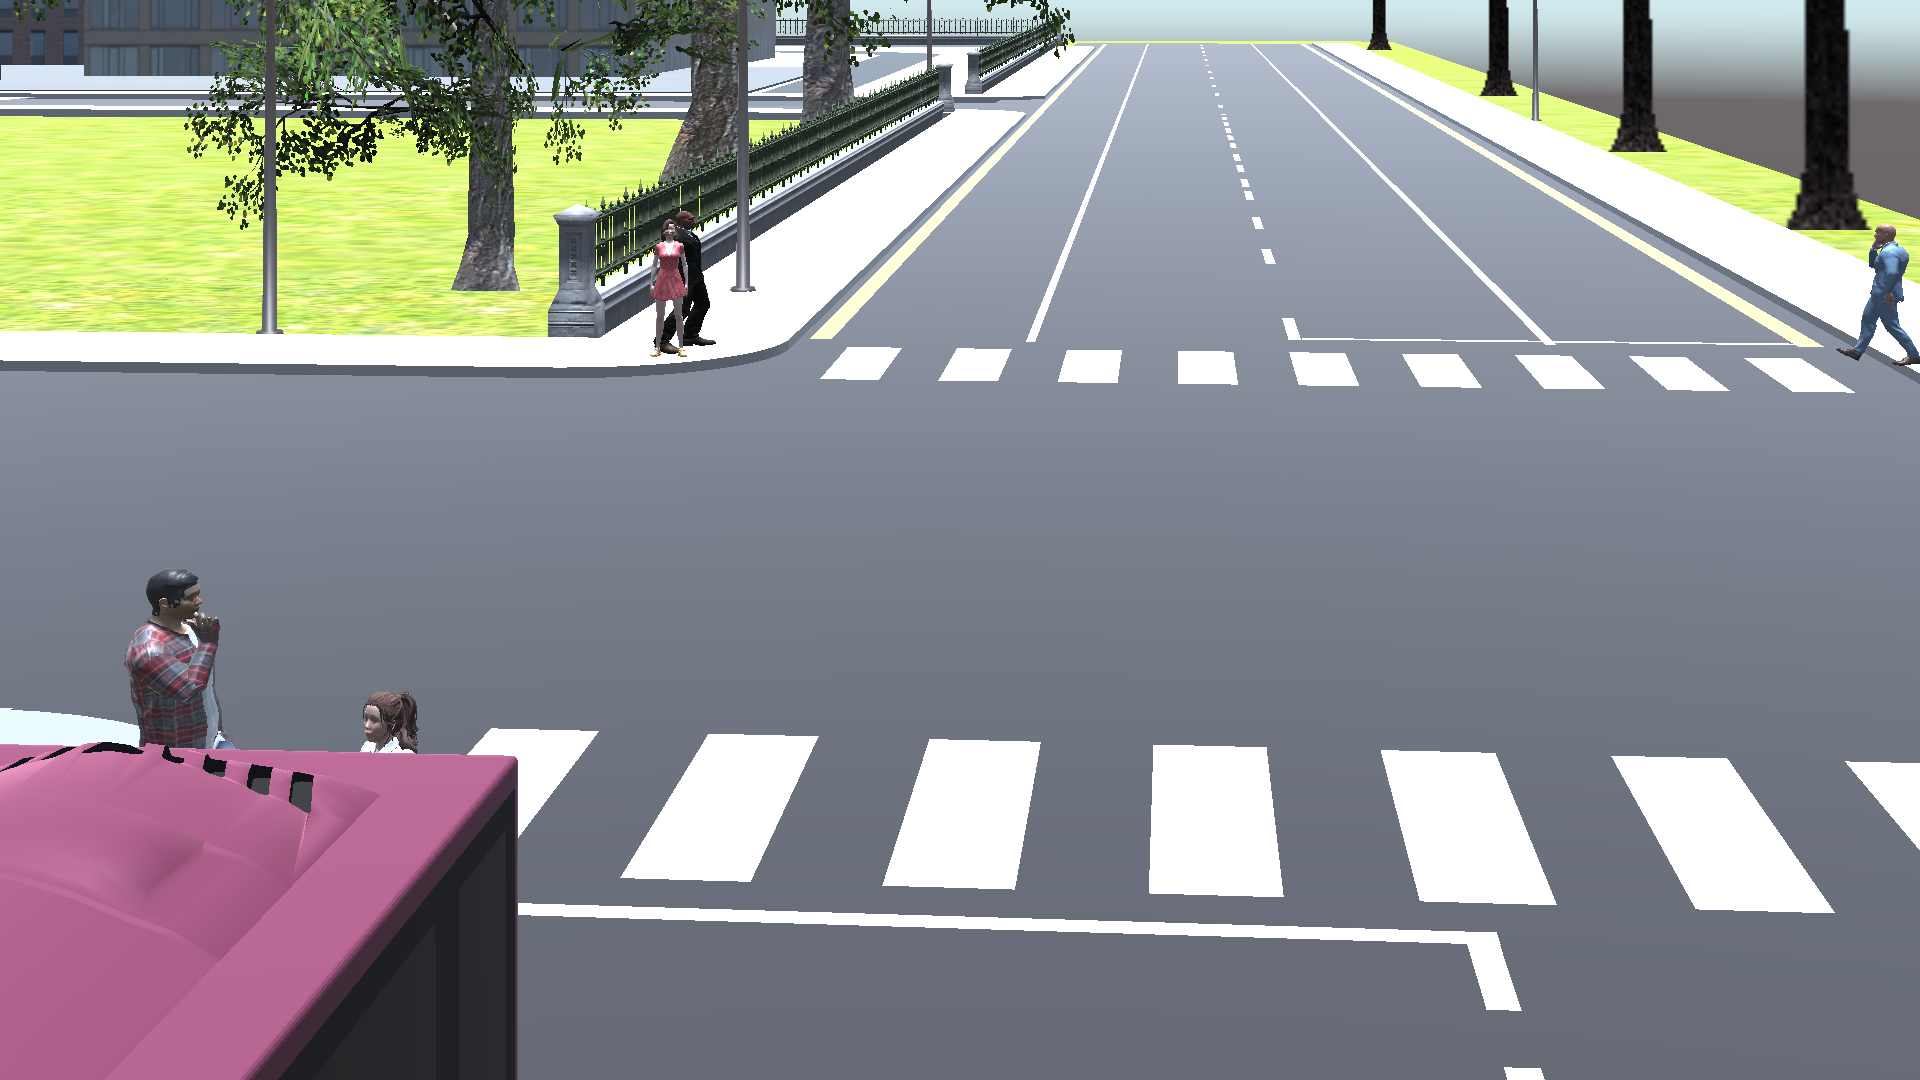pedestrian: (107, 560, 243, 745), (1843, 222, 1920, 372), (344, 678, 424, 758), (649, 212, 688, 359)
